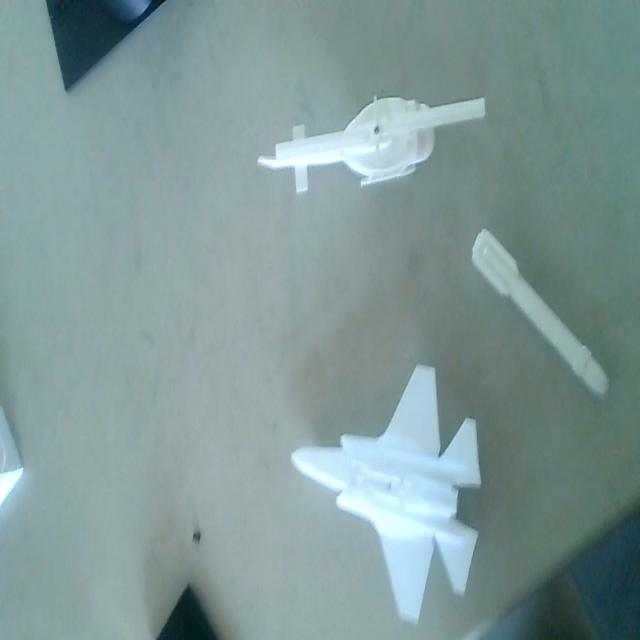Helicopter: (253, 89, 489, 198)
Jet: (292, 362, 483, 622)
Rocket: (468, 226, 612, 398)
